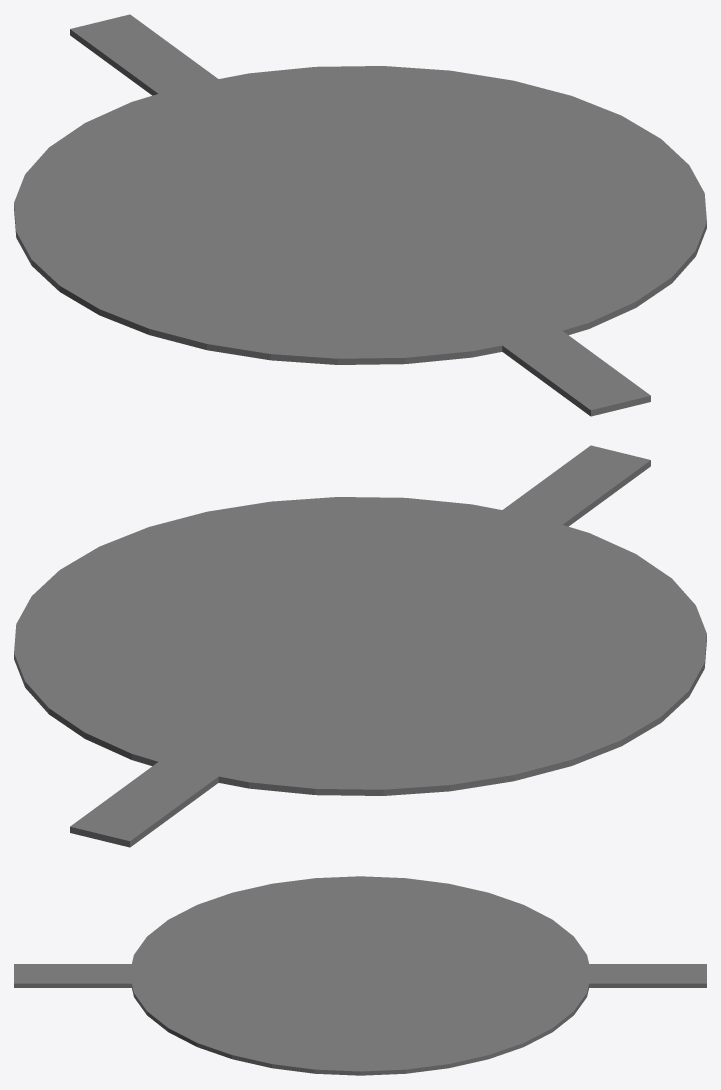
The model's file is TutorialStage.obj.
3 renders of one model, top to bottom at view 1: azimuth 30°, elevation 25°; view 2: azimuth 150°, elevation 25°; view 3: azimuth 270°, elevation 25°, orthographic. The views are drawn at different scales.
Parts seen in each view (by area): view 1: Cylinder; view 2: Cylinder; view 3: Cylinder.
Boxes of the visible parts, x1,y1,x2,y2 form: Cylinder: (14, 14, 706, 416); Cylinder: (14, 445, 706, 847); Cylinder: (14, 876, 706, 1075).
Size of the model in its own units: 20 by 0.2 by 30.
Materials: 1 (1 with a texture image).
